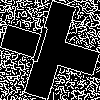I: (25, 25, 52, 73)
